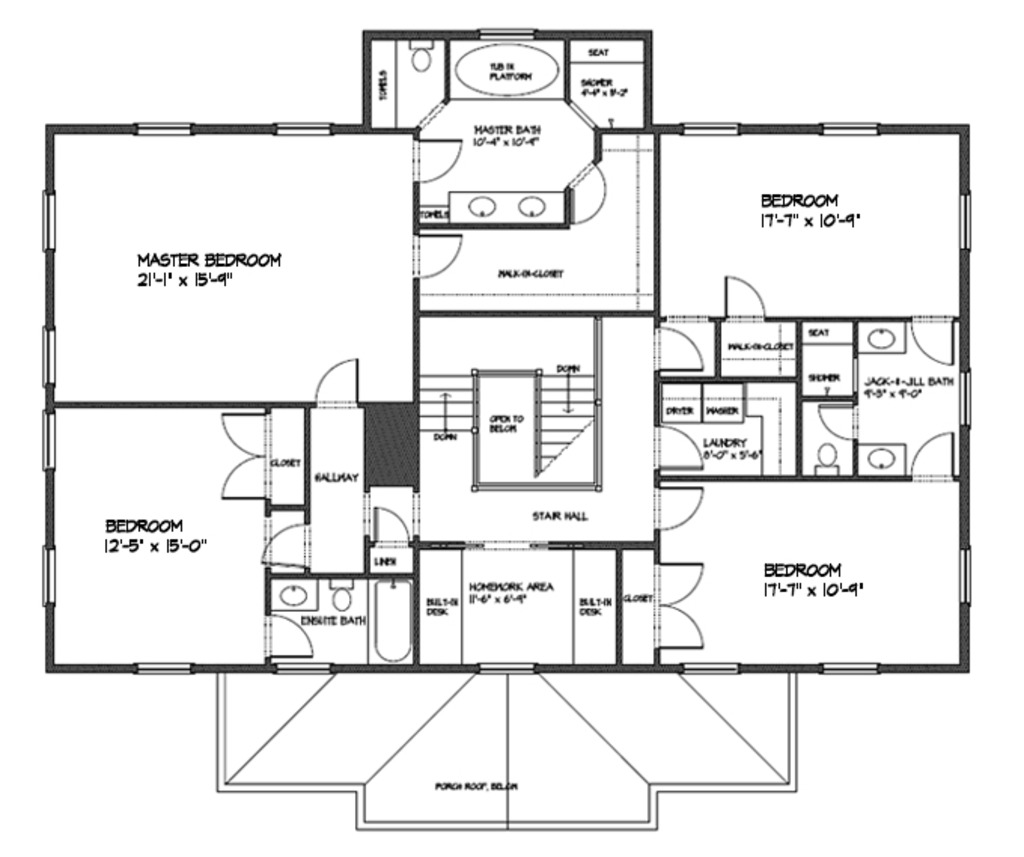door: (660, 555, 706, 656), (217, 411, 265, 502), (649, 425, 709, 479), (649, 324, 704, 377), (258, 522, 312, 572), (656, 482, 706, 535), (415, 232, 468, 282), (314, 358, 363, 409), (910, 431, 957, 482), (912, 319, 960, 368), (416, 135, 466, 182), (718, 272, 766, 319), (266, 615, 313, 659), (368, 506, 412, 547), (814, 402, 858, 442)
large_sink: (809, 442, 847, 480), (403, 40, 439, 76), (322, 581, 362, 612)
small_sink: (448, 188, 568, 232), (852, 322, 909, 357), (854, 439, 908, 475), (268, 577, 319, 611)
stairs: (419, 311, 605, 497)
tub: (452, 36, 566, 105), (369, 579, 420, 665)
windows: (949, 185, 978, 252), (128, 117, 200, 142), (34, 191, 61, 253), (268, 119, 335, 143), (955, 363, 978, 429), (668, 122, 744, 141), (128, 659, 199, 679), (809, 121, 882, 140), (676, 657, 745, 677), (38, 544, 58, 612), (814, 660, 878, 681), (955, 543, 975, 609), (38, 406, 57, 472), (38, 322, 58, 384), (474, 661, 541, 678)
